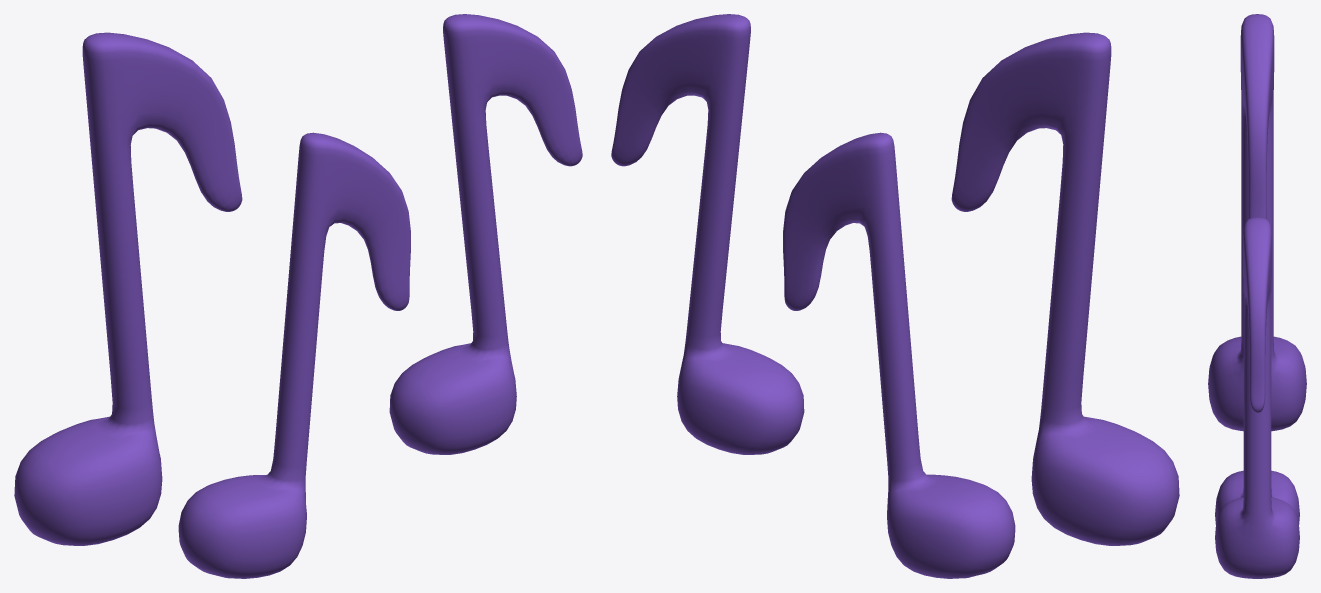
File: musical_notes.glb
The picture shows the model from 3 angles, left to right: view 1: azimuth 30°, elevation 25°; view 2: azimuth 150°, elevation 25°; view 3: azimuth 270°, elevation 25°; orthographic projection. The views are drawn at different scales.
Visible parts, largest first — view 1: Cube.821, Cube.823, Cube.826; view 2: Cube.821, Cube.823, Cube.826; view 3: Cube.826, Cube.821, Cube.823.
Part boxes in pixels (x1,y1,x2,y2): Cube.821: (14,32,242,545); Cube.823: (178,132,410,578); Cube.826: (389,14,582,454); Cube.821: (951,32,1179,545); Cube.823: (783,132,1015,578); Cube.826: (611,14,804,454); Cube.826: (1215,217,1299,578); Cube.821: (1208,14,1306,431); Cube.823: (1215,268,1299,524).
Size of the model in its own units: 2.12 by 2.06 by 0.389.
Materials: 1 (1 with a texture image).
